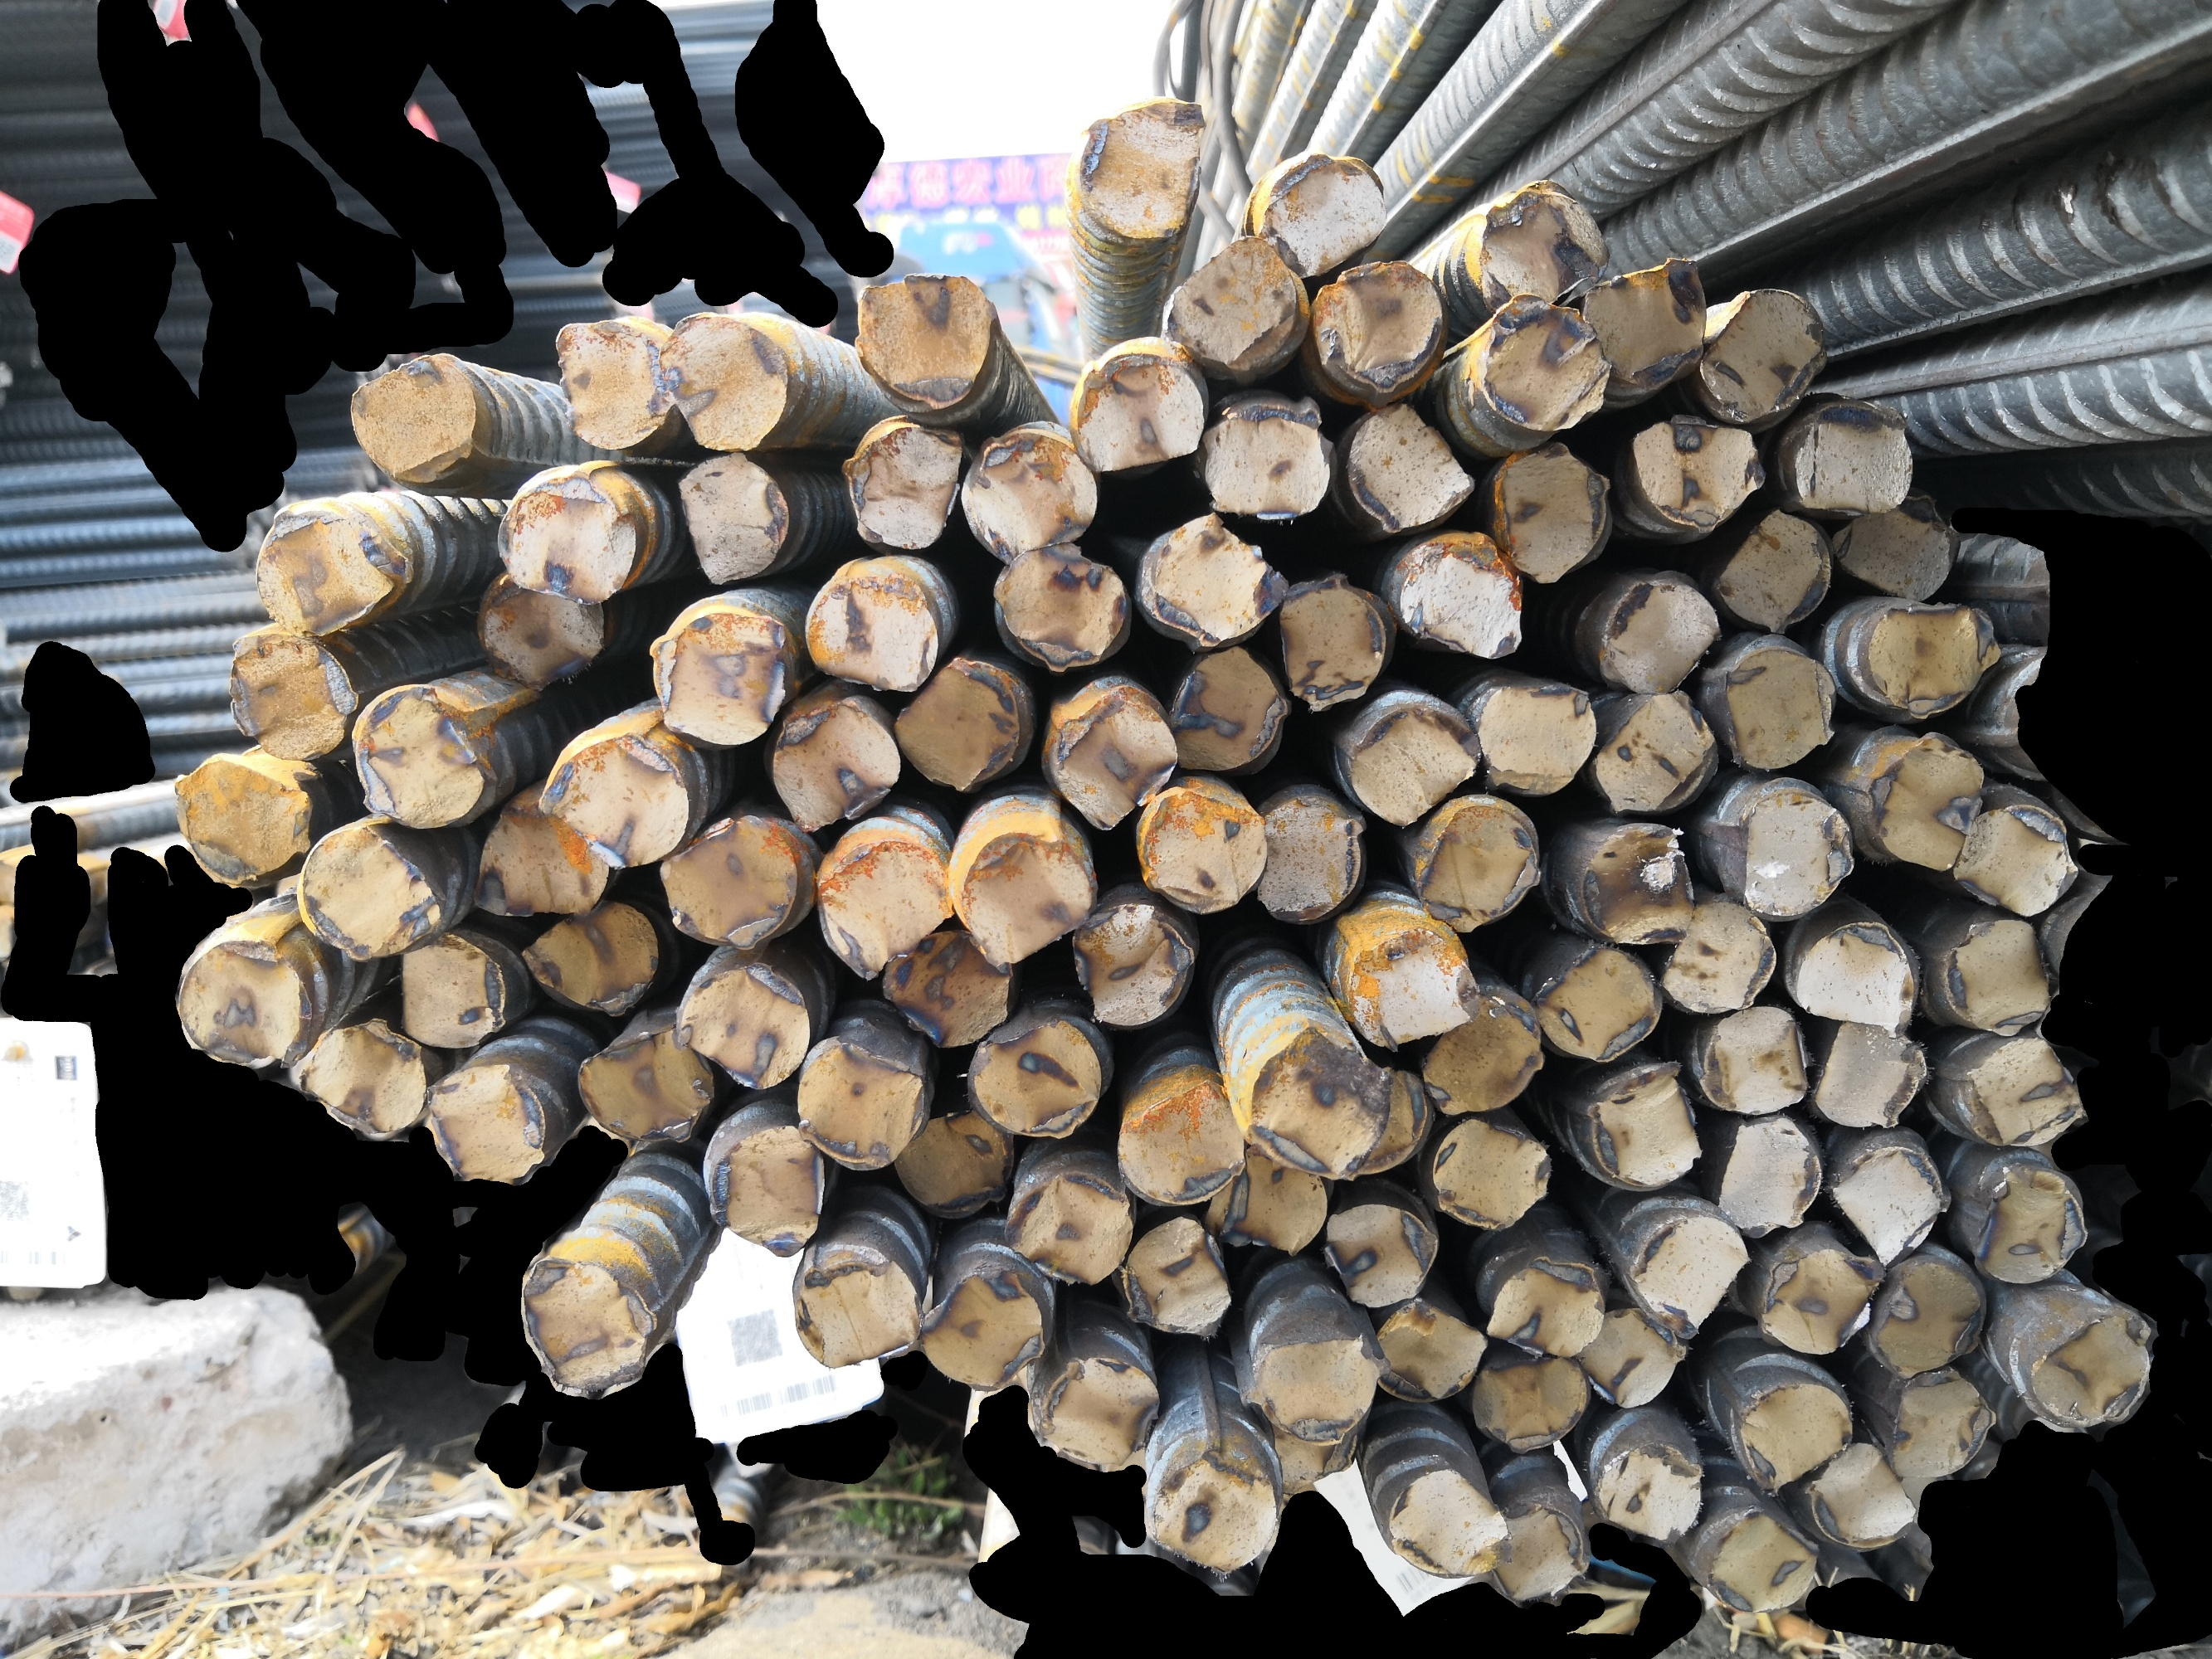rebar: (1243, 1018, 1396, 1188), (535, 727, 695, 873), (1137, 505, 1293, 653), (509, 1253, 661, 1405), (289, 821, 448, 965), (950, 828, 1102, 978), (492, 467, 643, 613), (851, 267, 1002, 411), (345, 681, 486, 836), (655, 303, 797, 457), (811, 836, 955, 985), (1070, 91, 1208, 246), (648, 606, 795, 751), (1157, 232, 1302, 378), (1044, 688, 1187, 836), (1572, 254, 1715, 401), (167, 751, 317, 890), (652, 814, 804, 951), (1239, 148, 1393, 284), (1483, 434, 1616, 591), (1306, 256, 1450, 399), (340, 352, 490, 490), (169, 932, 312, 1075), (1691, 284, 1834, 427), (887, 652, 1027, 798), (1475, 289, 1614, 436), (1333, 697, 1483, 833), (253, 507, 406, 640), (959, 427, 1102, 568), (1471, 174, 1609, 321), (1137, 1441, 1285, 1577), (1584, 681, 1727, 821), (987, 537, 1130, 676), (1340, 392, 1478, 537), (765, 694, 903, 836), (669, 958, 818, 1091), (1855, 592, 2005, 723), (1858, 730, 1987, 882), (1133, 784, 1274, 922), (1412, 796, 1546, 941), (1727, 779, 1862, 924), (1389, 533, 1537, 664), (221, 627, 361, 765), (790, 1037, 929, 1175), (1070, 340, 1210, 477), (572, 1018, 722, 1145), (1109, 1075, 1248, 1211), (800, 566, 945, 697), (1340, 924, 1485, 1054), (514, 894, 664, 1019), (912, 1258, 1049, 1394), (1415, 985, 1551, 1122), (966, 1014, 1107, 1147), (289, 1014, 432, 1145), (469, 793, 614, 922), (1626, 406, 1771, 535), (1192, 397, 1335, 526), (1621, 1209, 1757, 1344), (1161, 643, 1295, 779), (1710, 502, 1839, 641), (1520, 943, 1663, 1068), (1715, 634, 1841, 777), (471, 565, 608, 694), (1583, 1058, 1710, 1197), (702, 1121, 828, 1262), (1816, 486, 1964, 605), (1822, 1140, 1954, 1272), (835, 420, 966, 552), (1069, 899, 1201, 1030), (547, 317, 675, 453), (879, 925, 1016, 1051), (389, 925, 516, 1060), (1424, 1110, 1560, 1236), (1966, 1157, 2092, 1291), (1025, 1352, 1161, 1476), (1785, 396, 1921, 519), (999, 1166, 1137, 1288), (1954, 1032, 2093, 1152), (673, 446, 791, 587), (2025, 1307, 2156, 1434), (1593, 575, 1727, 699), (1245, 796, 1367, 932), (788, 1251, 926, 1371), (1248, 1331, 1386, 1452), (1752, 1244, 1893, 1361), (1276, 577, 1393, 718), (1867, 1253, 1992, 1384), (1787, 915, 1917, 1040), (887, 1101, 1020, 1225), (1651, 896, 1783, 1019), (1469, 676, 1602, 800), (1949, 798, 2083, 920), (1576, 816, 1696, 951), (1114, 1211, 1236, 1344), (422, 1060, 549, 1185), (1727, 1377, 1860, 1497), (1196, 1143, 1333, 1258), (1938, 913, 2057, 1044), (1382, 1464, 1517, 1579), (1808, 1014, 1935, 1133), (1694, 1002, 1815, 1126), (1314, 1194, 1442, 1310), (1708, 1117, 1825, 1244), (1700, 1500, 1822, 1621), (1368, 1293, 1492, 1410), (1569, 1298, 1689, 1413), (1482, 1255, 1609, 1363), (1884, 1364, 1998, 1485), (1468, 1349, 1591, 1459), (1804, 1436, 1921, 1551), (1590, 1436, 1706, 1546), (1483, 1495, 1593, 1608), (1265, 1406, 1370, 1500), (1354, 1060, 1433, 1183)
